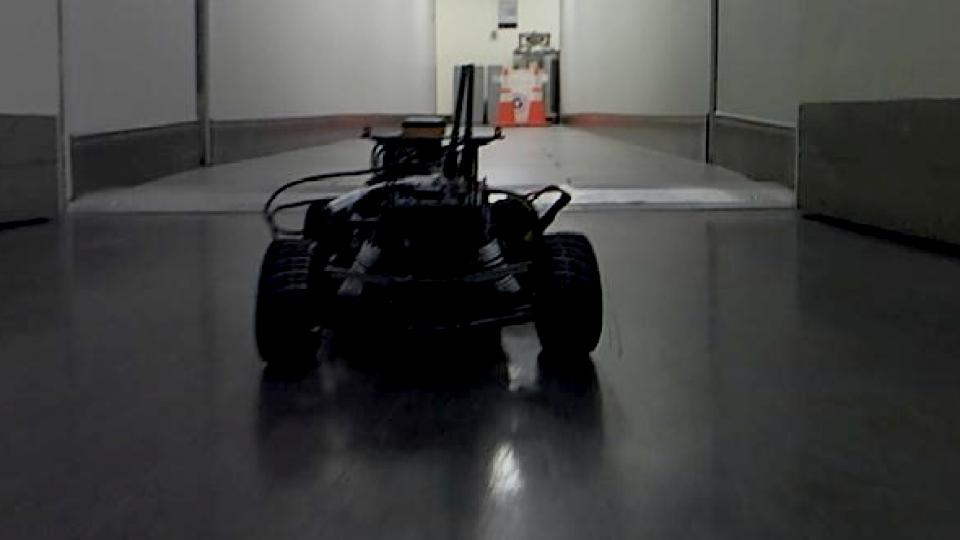car: (250, 61, 608, 373)
